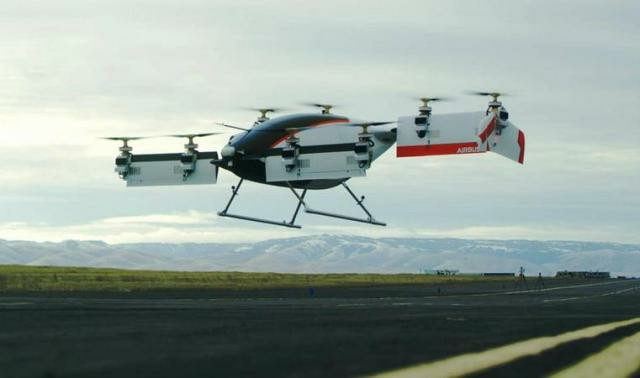maybay_khongnguoilai: (107, 103, 522, 233)
